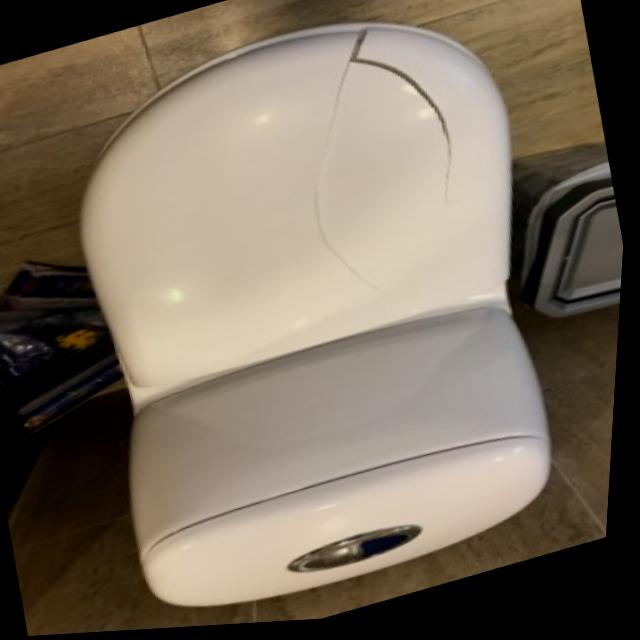toilet: (28, 0, 610, 637)
